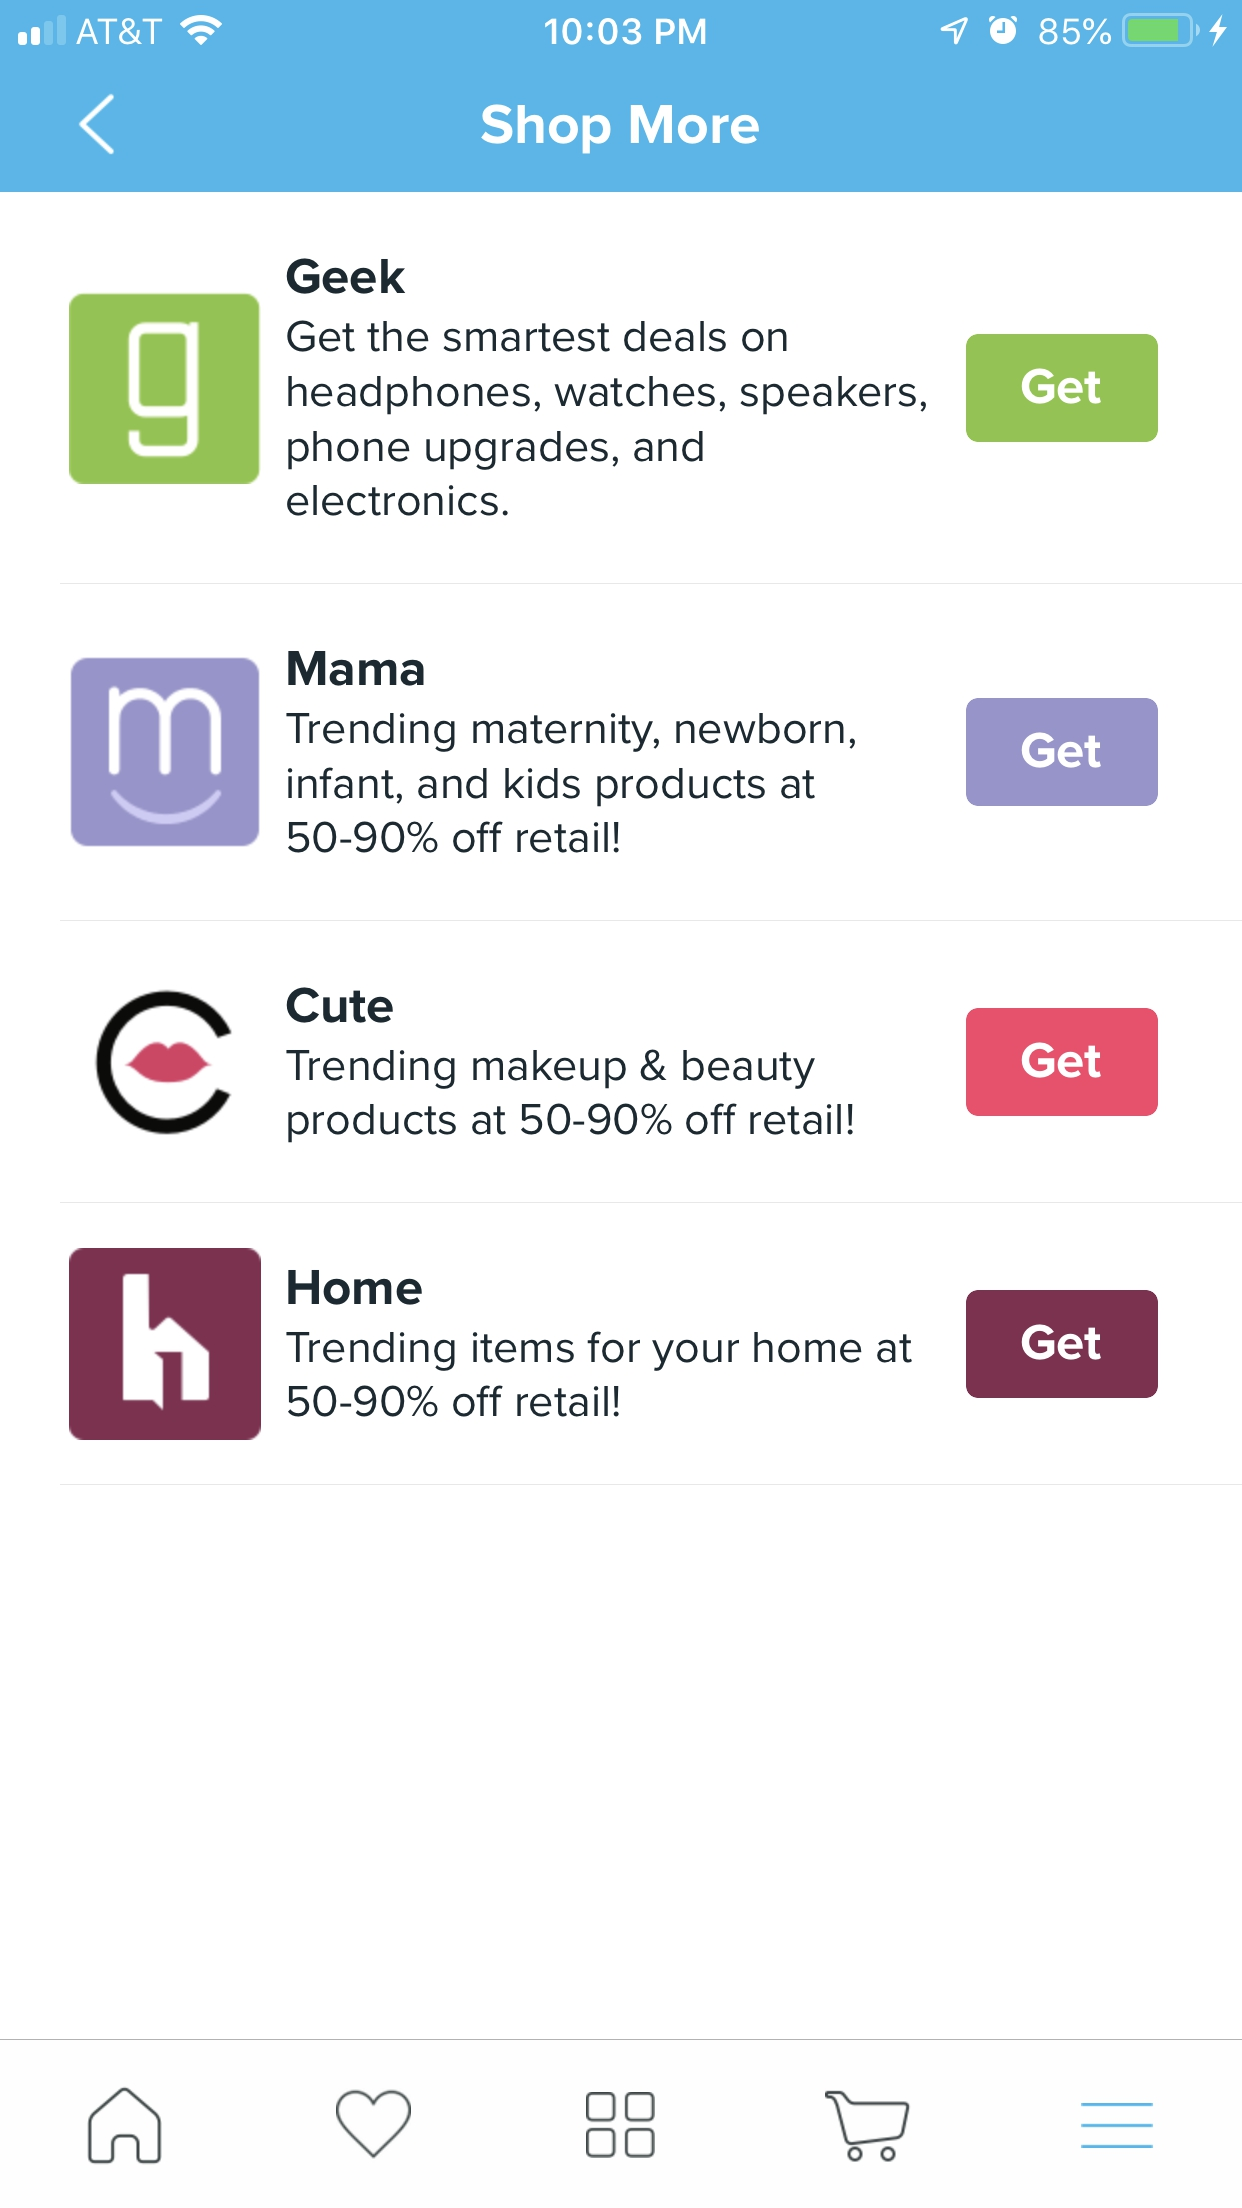Icon: (823, 2090, 910, 2163), (89, 2087, 162, 2164), (337, 2090, 412, 2159), (585, 2093, 657, 2159), (1080, 2100, 1154, 2149), (79, 94, 115, 156)
Image: (70, 1248, 262, 1441), (70, 293, 261, 485), (70, 658, 259, 848), (96, 990, 234, 1136)
Text: (287, 320, 927, 519), (287, 713, 855, 855), (287, 1331, 913, 1418), (287, 1049, 854, 1143), (481, 105, 760, 156), (287, 651, 425, 688), (288, 1269, 423, 1306), (287, 259, 406, 296), (287, 987, 394, 1025)
TextButton: (964, 1008, 1159, 1118), (966, 1291, 1159, 1400), (966, 698, 1159, 807), (966, 334, 1159, 443)
UpperTaskBar: (2, 2, 1242, 49)
